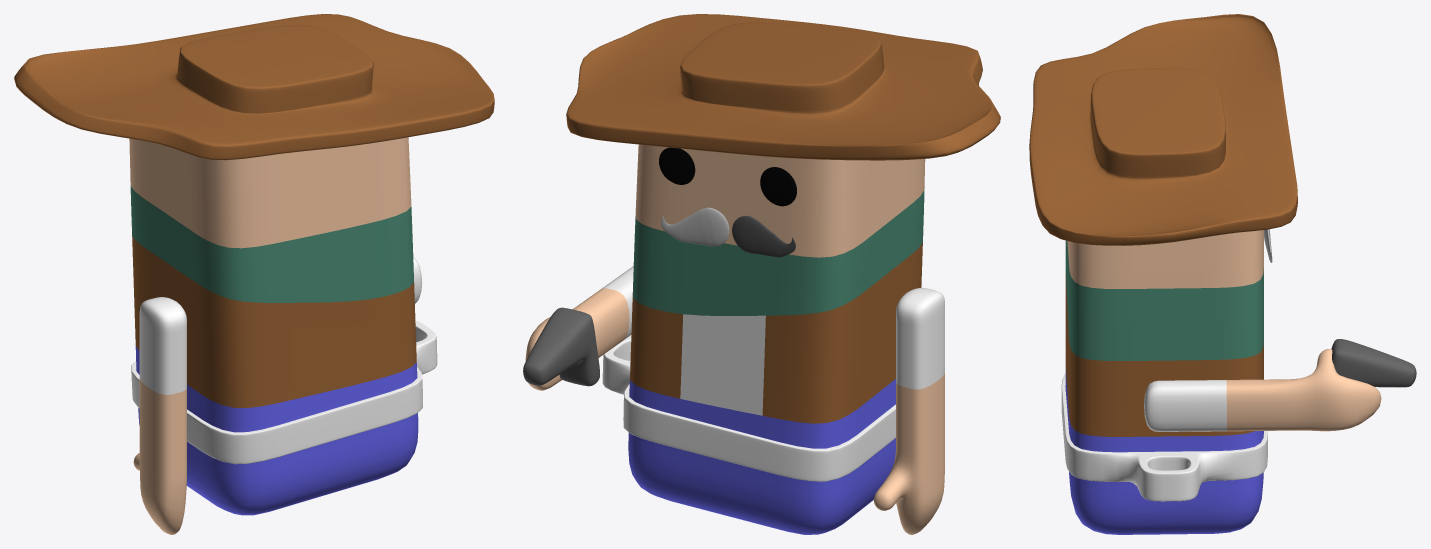
Rendered from PERSONNAGE1.fbx.
3 views of the same model, side by side, from view 1: azimuth 30°, elevation 25°; view 2: azimuth 150°, elevation 25°; view 3: azimuth 270°, elevation 25° (orthographic). The views are drawn at different scales.
Visible parts, largest first — view 1: CORPS, CHAPEAU, pCube3; view 2: CORPS, CHAPEAU, pCube3, arme, pCube2, pSphere4, pSphere3, pSphere2, pSphere1; view 3: CHAPEAU, CORPS, pCube2, arme.
Part boxes in pixels (box(x1,y1,x2,y2)): CORPS: box(129, 137, 437, 515); CHAPEAU: box(14, 14, 494, 160); pCube3: box(133, 297, 186, 534); CORPS: box(602, 144, 925, 534); CHAPEAU: box(566, 14, 1000, 160); pCube3: box(873, 287, 944, 534); arme: box(523, 307, 599, 386); pCube2: box(525, 266, 633, 390); pSphere4: box(661, 207, 729, 246); pSphere3: box(732, 215, 795, 257); pSphere2: box(760, 167, 796, 206); pSphere1: box(659, 147, 695, 184); CHAPEAU: box(1029, 14, 1297, 245); CORPS: box(1061, 230, 1267, 534); pCube2: box(1144, 349, 1381, 431); arme: box(1331, 339, 1416, 387).
Size of the model in its own units: 104 by 111 by 92.92.
